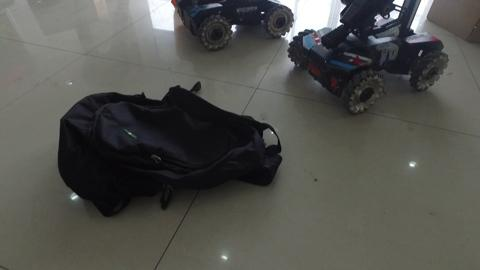bag: (61, 90, 283, 208)
chariot: (291, 3, 459, 114)
